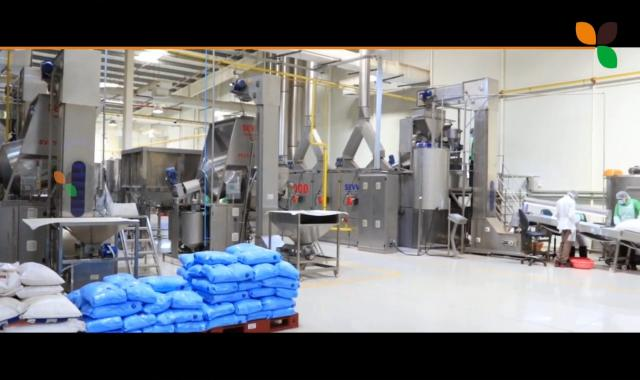hairnet: (616, 191, 628, 205), (567, 188, 577, 197)
